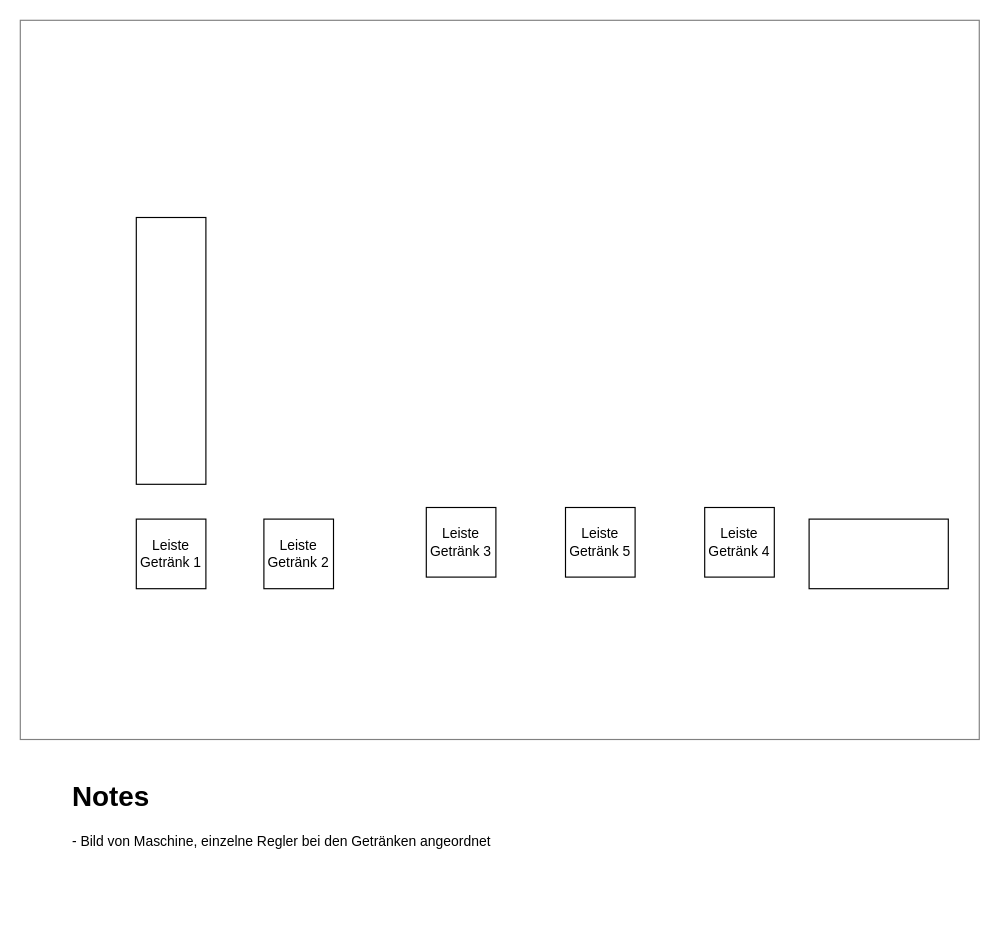
Image size: 1000x934. Some labels were removed from this diagram. The shapes that lost their labels are listed below. From the top down, each one's centre as x and y in pixels, then its label:
At pixel 170 350: "Balken".
At pixel 878 553: "Mischen >".
